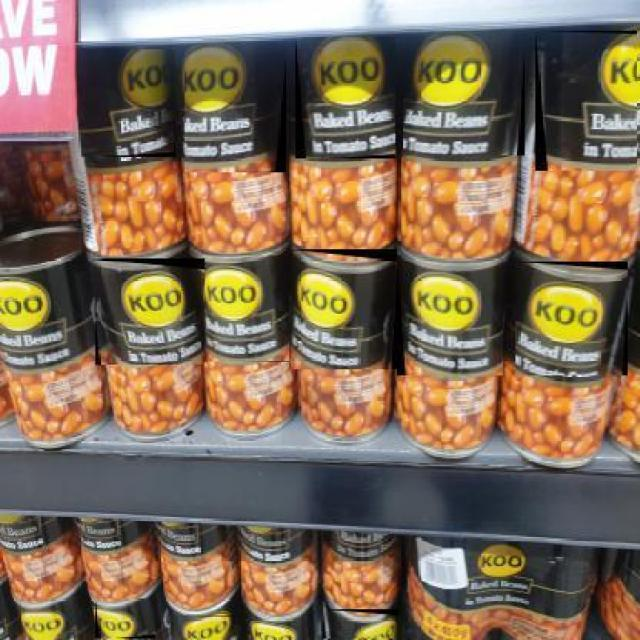Beans: (404, 31, 527, 157), (536, 31, 639, 173), (290, 249, 399, 371), (185, 45, 288, 174), (516, 261, 630, 377), (397, 258, 505, 376), (90, 259, 207, 367), (295, 38, 397, 161), (0, 265, 97, 379), (78, 50, 176, 159), (194, 256, 292, 364), (95, 598, 158, 640), (14, 602, 85, 639), (323, 609, 400, 640), (172, 615, 236, 639)
